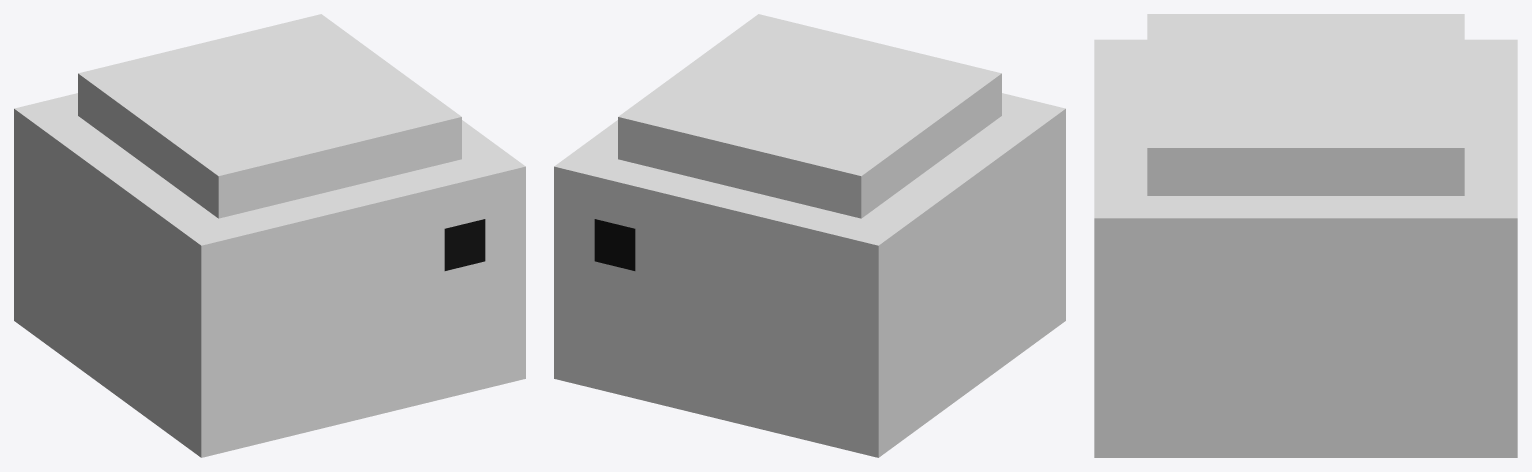
Rendered from RoboBody.fbx.
3 renders of one model, left to right at view 1: azimuth 30°, elevation 25°; view 2: azimuth 150°, elevation 25°; view 3: azimuth 270°, elevation 25°, orthographic. The views are drawn at different scales.
Parts seen in each view (by area): view 1: RobotBody:Mesh; view 2: RobotBody:Mesh; view 3: RobotBody:Mesh.
Boxes of the visible parts, box(x1,y1,x2,y2) form: RobotBody:Mesh: box(14, 14, 525, 457); RobotBody:Mesh: box(554, 14, 1065, 457); RobotBody:Mesh: box(1094, 14, 1517, 457).
Size of the model in its own units: 0.8 by 0.6 by 0.8.
Materials: 1 (1 with a texture image).
